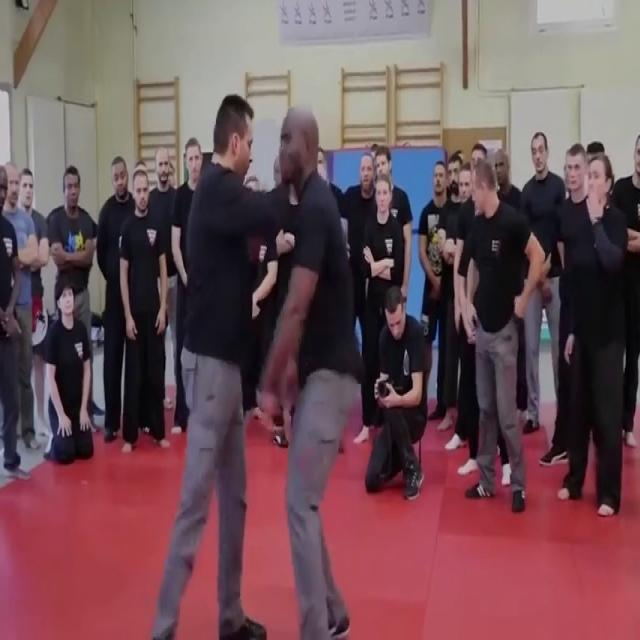fight: (161, 98, 357, 638)
non-fight: (522, 132, 640, 516), (93, 151, 193, 453), (351, 144, 435, 501), (0, 162, 52, 478)
